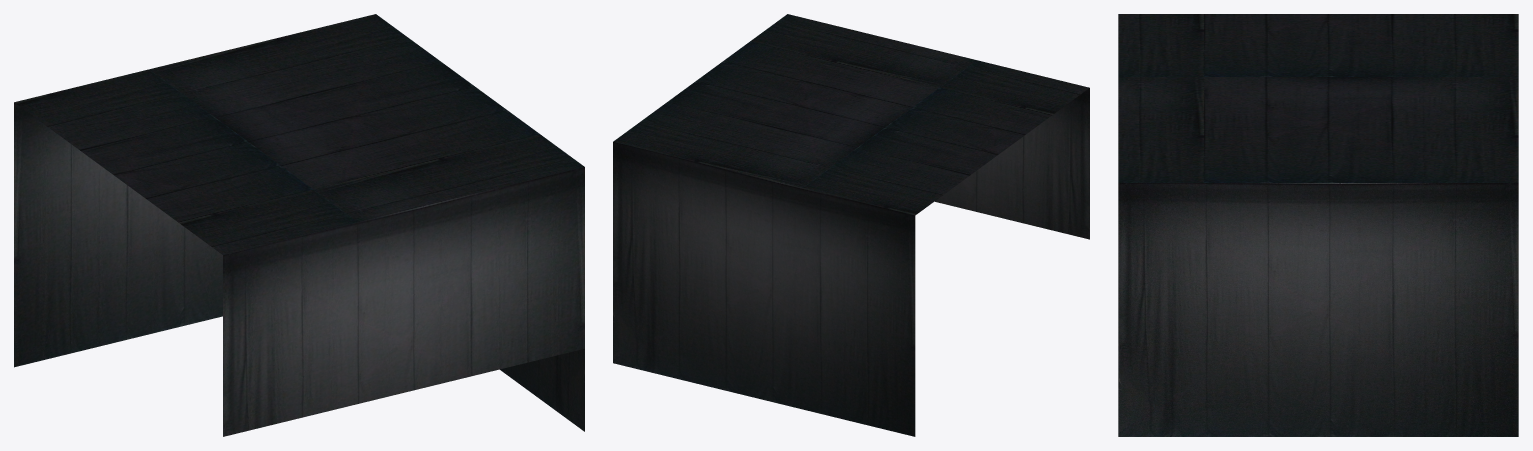
Rendered from cyberzoo_walls.dae.
The picture shows the model from 3 angles, left to right: view 1: azimuth 30°, elevation 25°; view 2: azimuth 150°, elevation 25°; view 3: azimuth 270°, elevation 25°; orthographic projection. The views are drawn at different scales.
Visible parts, largest first — view 1: instance_0 (×2); view 2: instance_0 (×2); view 3: instance_0 (×2).
Boxes of the visible parts, left/top/right/bottom form: instance_0 (×2): left=14, top=14, right=584, bottom=436; instance_0 (×2): left=613, top=14, right=1089, bottom=436; instance_0 (×2): left=1118, top=14, right=1518, bottom=436.
Bounding box in the file's own units: 394 × 394 × 276.
2 materials, 2 textured.
